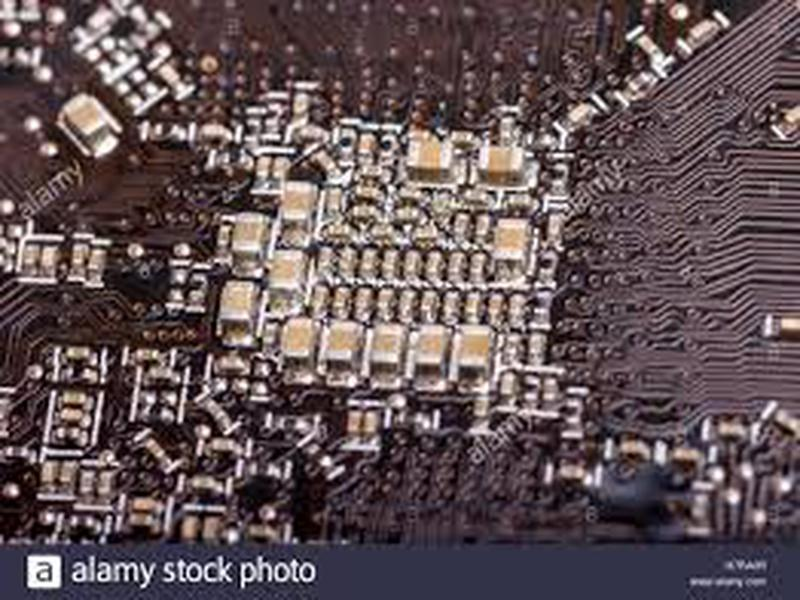SMD capacitor: (459, 322, 500, 380), (218, 277, 256, 332)
